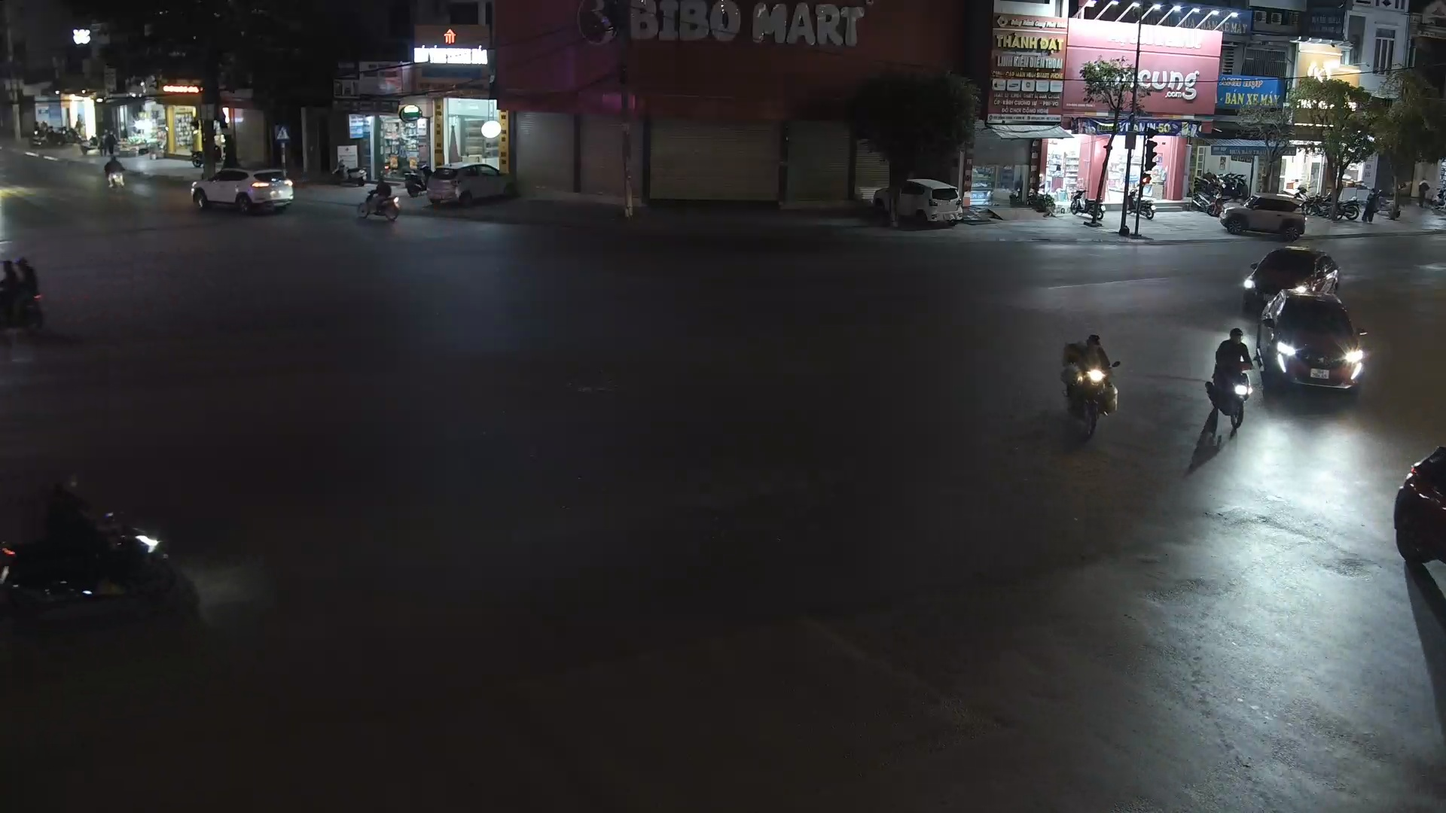car: (1254, 288, 1369, 401), (1392, 441, 1445, 623), (1240, 242, 1340, 320), (190, 172, 296, 217)
motorbike: (0, 473, 208, 623), (1060, 329, 1124, 442), (1201, 324, 1255, 441), (0, 234, 48, 337), (356, 179, 401, 224)
